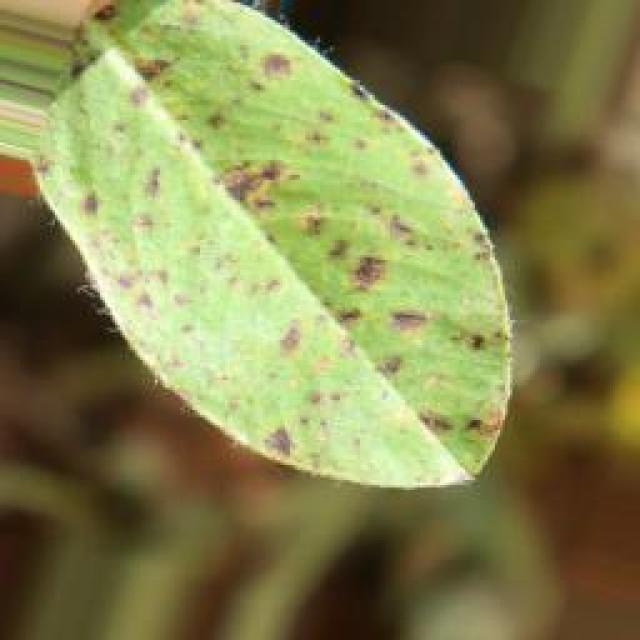Yellowish: (19, 13, 546, 506)
